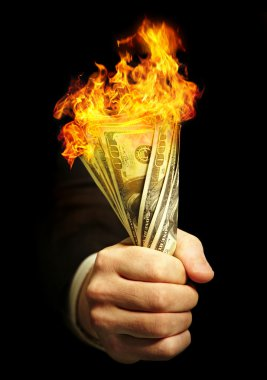fire: (63, 33, 195, 142)
